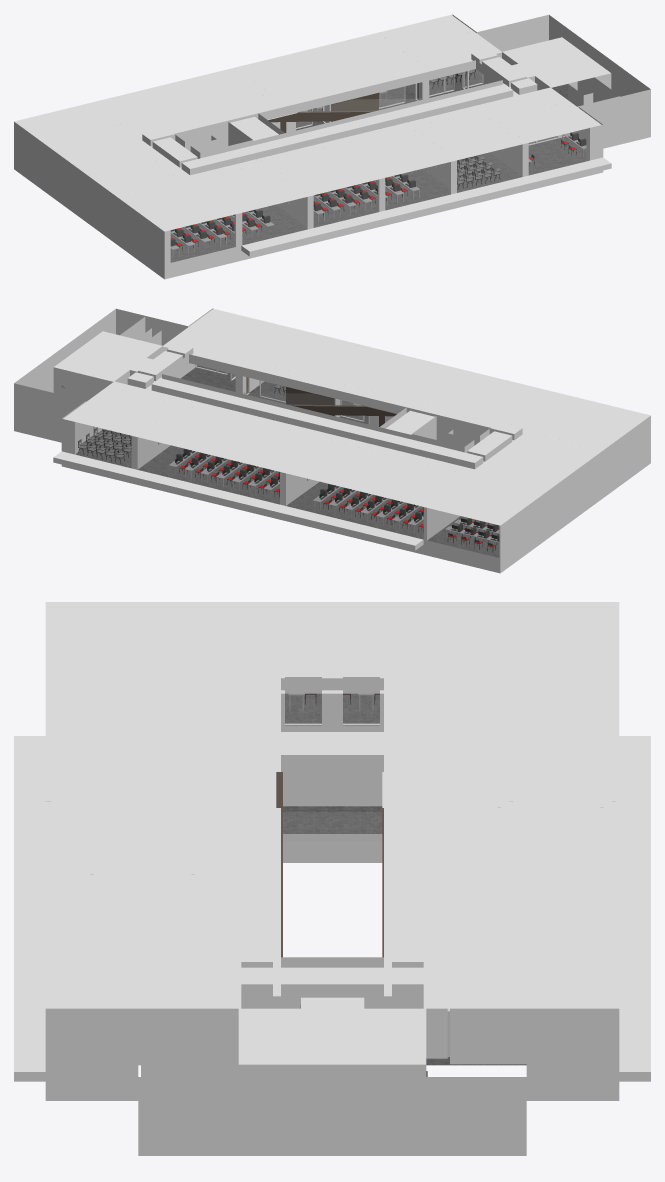
File: EISCSecondFloor.glb
3 renders of one model, top to bottom at view 1: azimuth 30°, elevation 25°; view 2: azimuth 150°, elevation 25°; view 3: azimuth 270°, elevation 25°, orthographic. The views are drawn at different scales.
Visible parts, largest first — view 1: StructureSecondFloor, TopSecondFloor, SecondFloor, ComputersRoom6, ComputersRoom5, Chairs2002, DesksComputerRoom6, DesksComputerRoom5; view 2: StructureSecondFloor, TopSecondFloor, SecondFloor, Chairs2008, ComputersRoom1, ComputersRoom2, DesksComputerRoom2, DesksComputerRoom1, ComputersRoom4Back, ChairsComputerRoom1, ChairsComputerRoom2; view 3: TopSecondFloor, StructureSecondFloor, SecondFloor.
Boxes of the visible parts, x1,y1,x2,y2 form: StructureSecondFloor: [14, 14, 650, 279]; TopSecondFloor: [14, 15, 610, 231]; SecondFloor: [170, 70, 594, 262]; ComputersRoom6: [313, 174, 415, 211]; ComputersRoom5: [170, 209, 270, 246]; Chairs2002: [457, 156, 501, 189]; DesksComputerRoom6: [313, 176, 419, 222]; DesksComputerRoom5: [170, 211, 274, 257]; StructureSecondFloor: [14, 308, 650, 573]; TopSecondFloor: [54, 309, 650, 525]; SecondFloor: [75, 365, 499, 557]; Chairs2008: [78, 427, 131, 463]; ComputersRoom1: [175, 448, 279, 487]; ComputersRoom2: [319, 484, 423, 522]; DesksComputerRoom2: [313, 486, 423, 533]; DesksComputerRoom1: [168, 450, 279, 498]; ComputersRoom4Back: [451, 518, 499, 541]; ChairsComputerRoom1: [179, 454, 279, 497]; ChairsComputerRoom2: [323, 489, 423, 532]; TopSecondFloor: [45, 602, 619, 1064]; StructureSecondFloor: [14, 661, 650, 1155]; SecondFloor: [283, 693, 526, 1076].
Size of the model in its own units: 42.5 by 4.5 by 24.1.
Materials: 23 (11 with a texture image).
